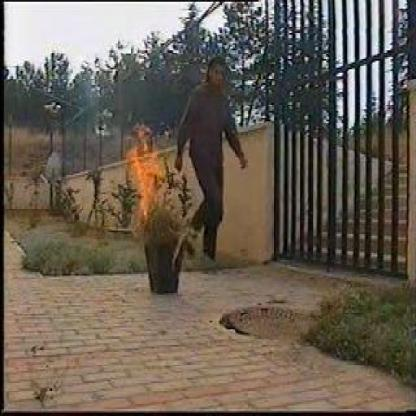foggia-v2-map80-epoch100 - v1 4323: (121, 145, 171, 207)
